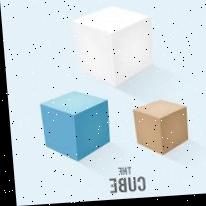cube: (37, 91, 109, 164), (130, 101, 188, 159)
